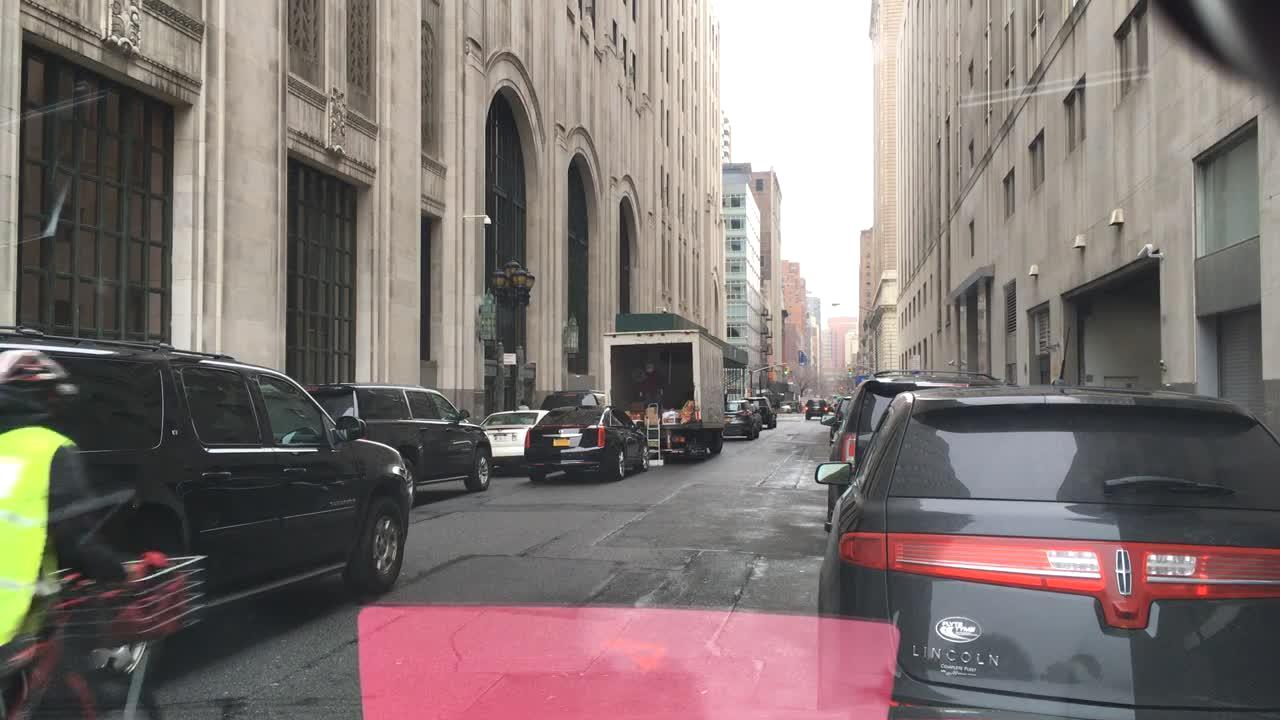lincoln: (1104, 527, 1149, 628)
